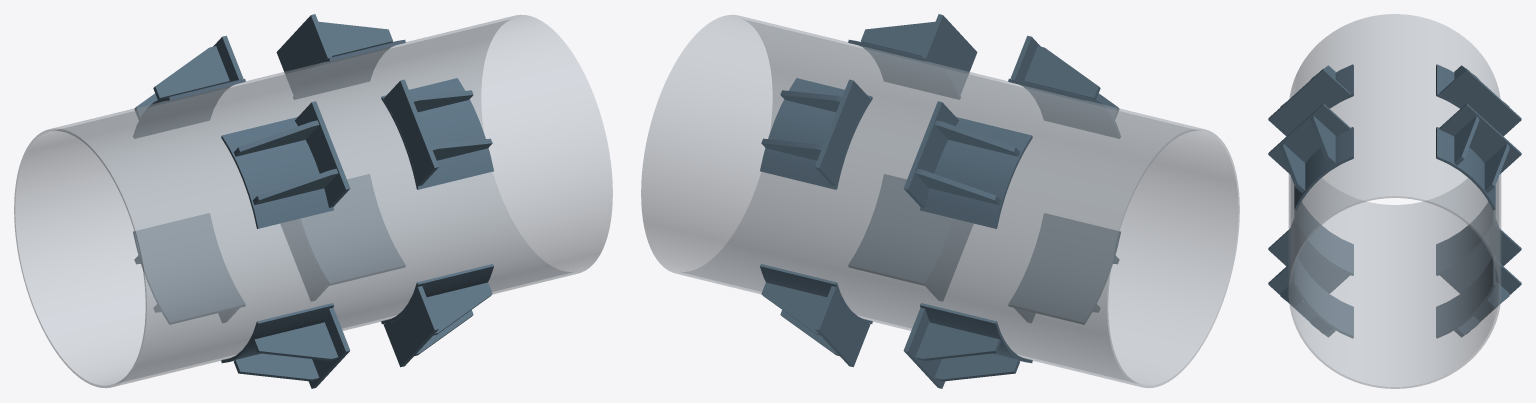
Rendered from TS-664.00.00-04-opora-dn820-ris2.glb.
3 views of the same model, side by side, from view 1: azimuth 30°, elevation 25°; view 2: azimuth 150°, elevation 25°; view 3: azimuth 270°, elevation 25° (orthographic). The views are drawn at different scales.
Parts seen in each view (by area): view 1: truba, det_24, det_20, det_8, det_4, det_32, det_28, det_1, det_9, det_14, det_25, det_5 (+13 smaller); view 2: truba, det_16, det_12, det_32, det_28, det_8, det_4, det_25, det_17, det_23, det_1, det_29 (+13 smaller); view 3: truba, det_5, det_29, det_12, det_20, det_13, det_21, det_16, det_24, det_1, det_25, det_4 (+13 smaller).
Part boxes in pixels (x1,y1,x2,y2): truba: (14,14,612,388); det_24: (133,213,245,324); det_20: (300,174,405,285); det_8: (221,117,333,228); det_4: (381,78,493,189); det_32: (133,79,245,138); det_28: (293,39,405,99); det_1: (383,79,438,186); det_9: (383,286,438,367); det_14: (253,322,338,360); det_25: (276,14,331,94); det_5: (295,101,350,207); truba: (641,14,1239,388); det_16: (1008,213,1120,324); det_12: (848,174,953,285); det_32: (920,117,1032,228); det_28: (760,78,872,189); det_8: (1008,79,1120,138); det_4: (848,39,960,99); det_25: (815,79,870,186); det_17: (815,286,870,367); det_23: (915,322,1000,360); det_1: (922,14,977,94); det_29: (903,101,958,207); truba: (1288,14,1501,388); det_5: (1268,68,1350,136); det_29: (1439,68,1521,136); det_12: (1294,255,1353,338); det_20: (1436,255,1495,338); det_13: (1268,225,1350,293); det_21: (1439,225,1521,293); det_16: (1294,202,1353,275); det_24: (1436,202,1495,275); det_1: (1268,103,1350,173); det_25: (1439,103,1521,173); det_4: (1294,127,1353,210).
Size of the model in its own units: 1660 by 976 by 976.
